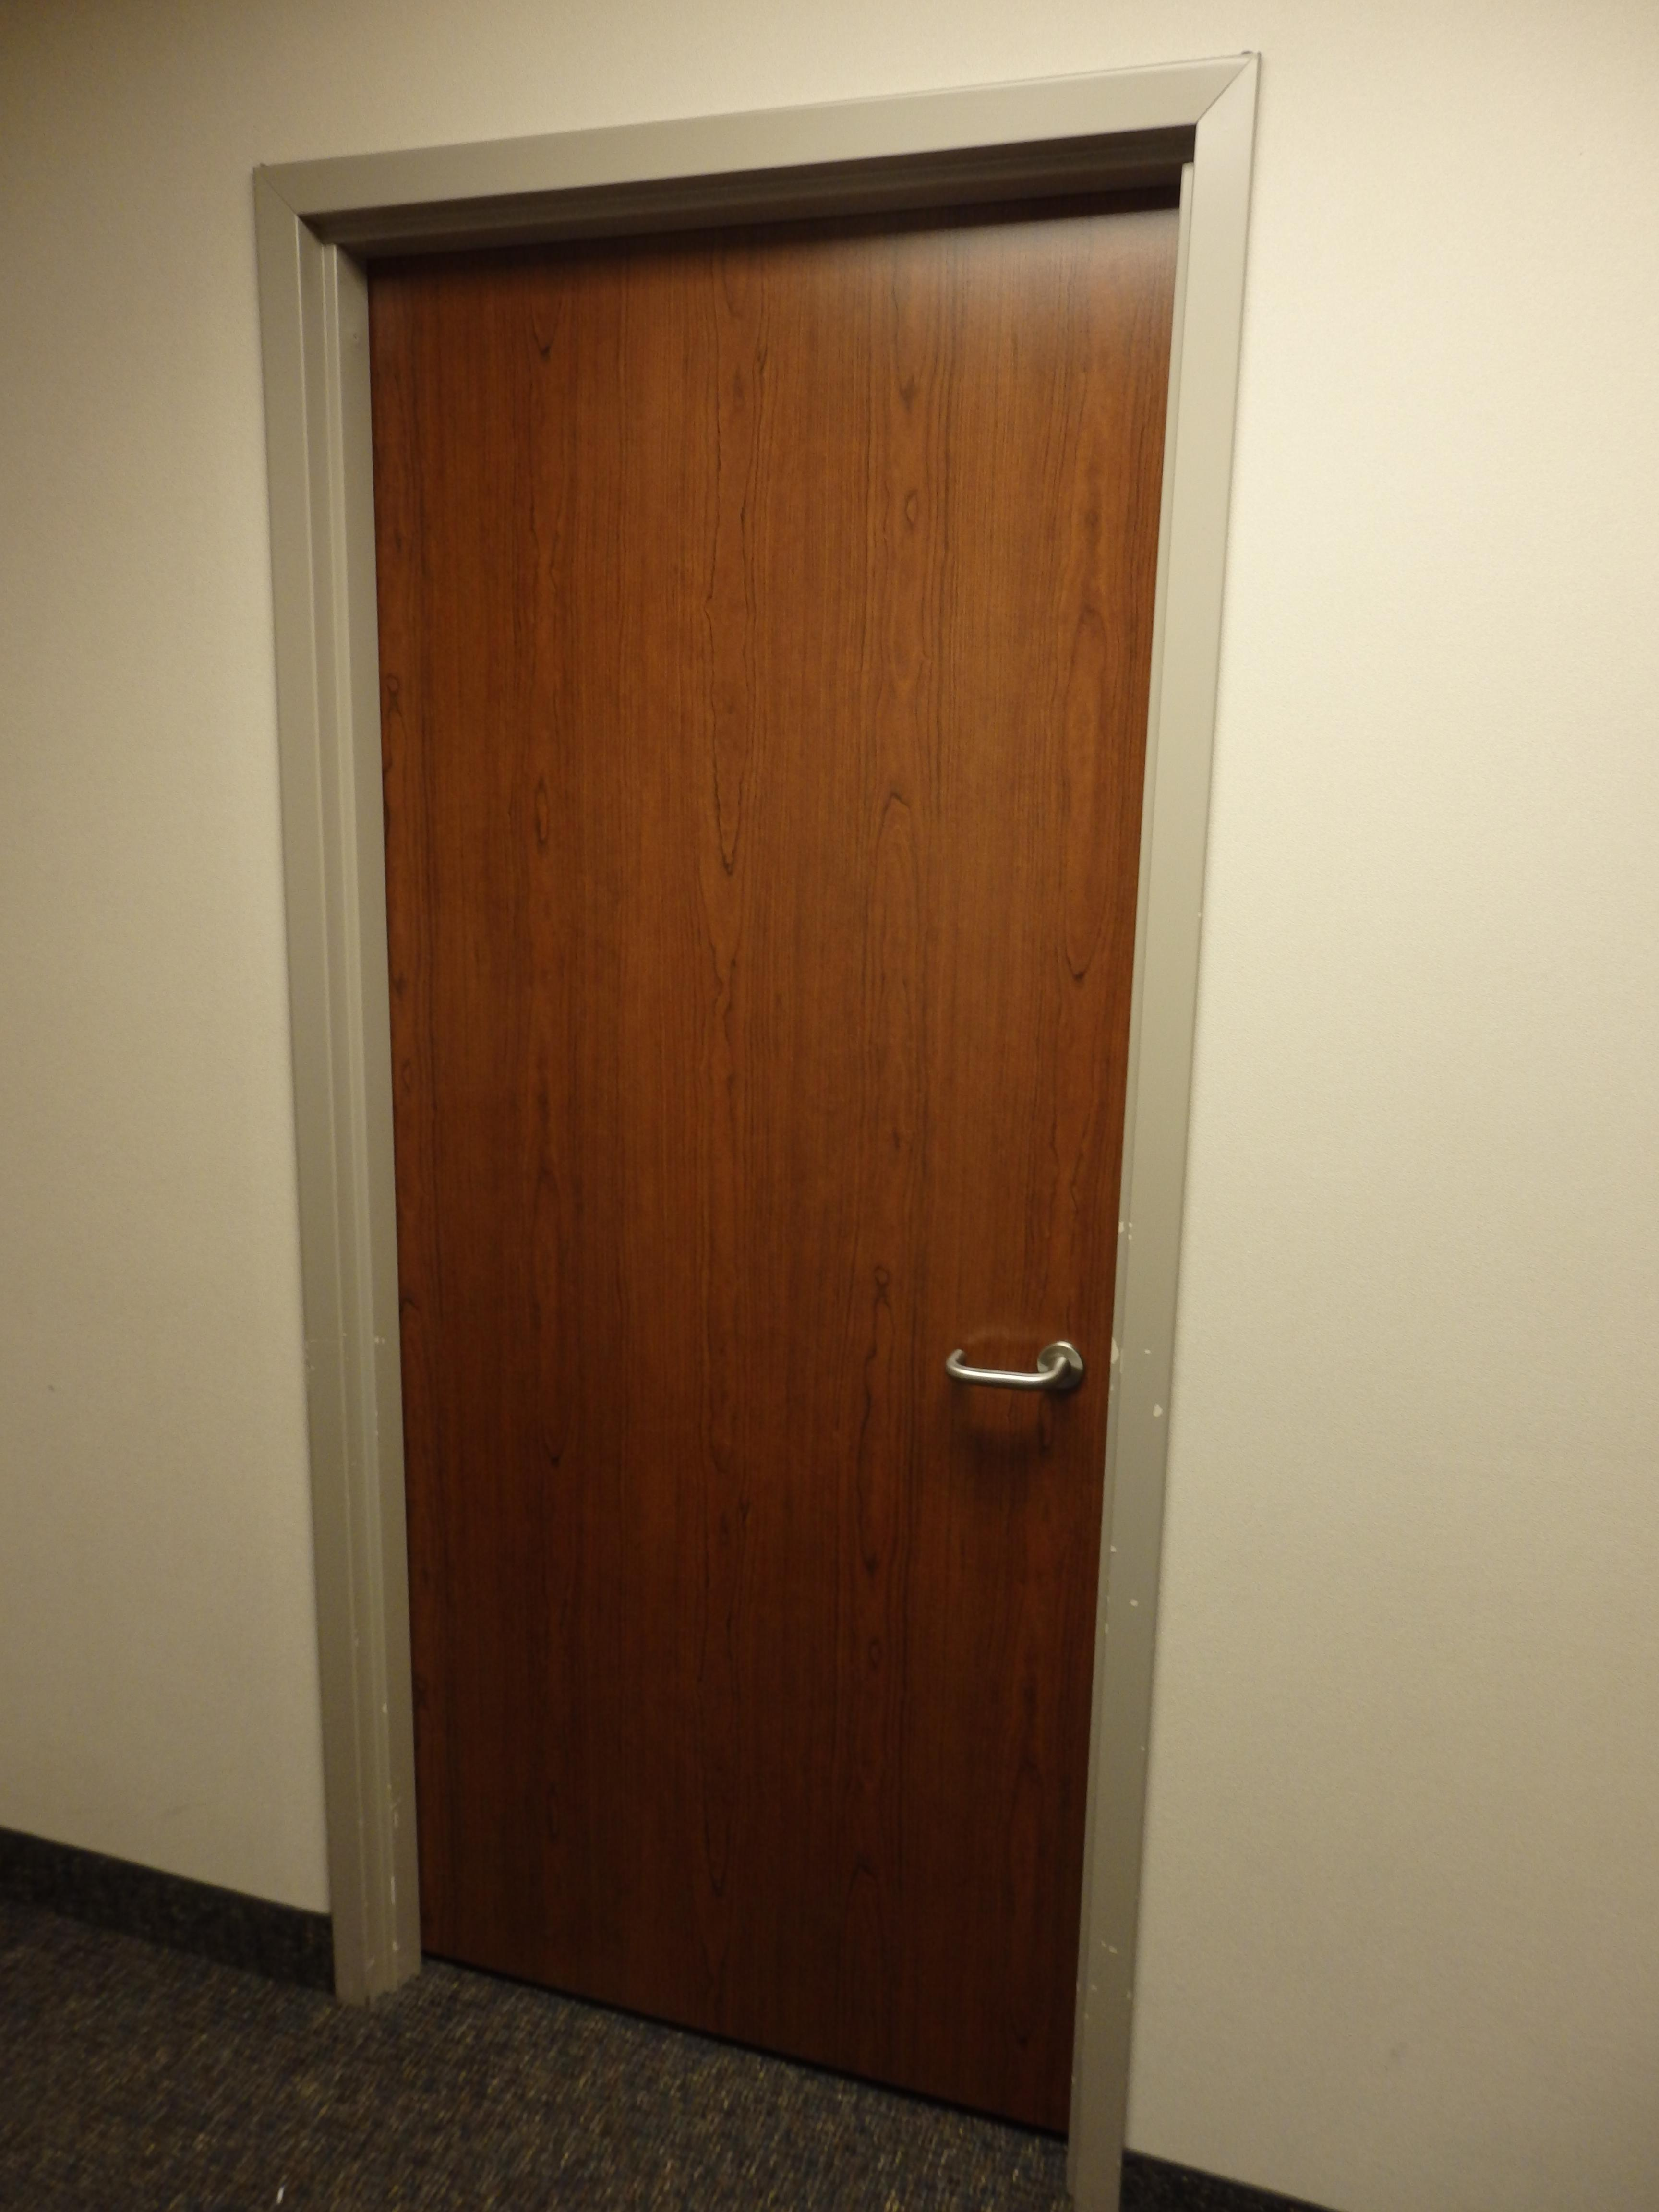door: (288, 143, 1213, 2107)
